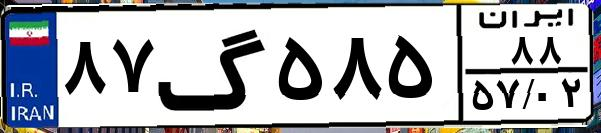0: (535, 70, 560, 125)
2: (560, 70, 590, 125)
5: (270, 28, 330, 110), (385, 28, 445, 110), (470, 70, 495, 125)
7: (110, 28, 156, 98), (495, 70, 520, 125)
8: (330, 28, 385, 110), (57, 26, 110, 100), (537, 27, 568, 80), (508, 27, 537, 80)
گ: (156, 12, 270, 120)
